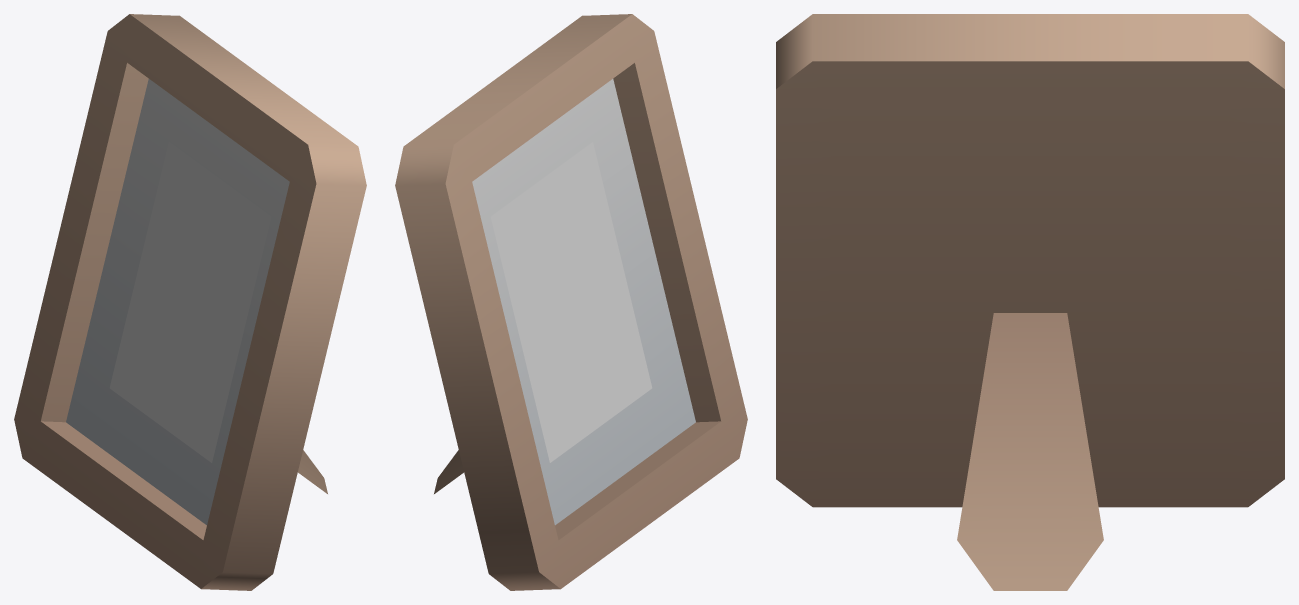
File: picture-frame-border_0.glb
The picture shows the model from 3 angles, left to right: view 1: azimuth 30°, elevation 25°; view 2: azimuth 150°, elevation 25°; view 3: azimuth 270°, elevation 25°; orthographic projection. The views are drawn at different scales.
Parts seen in each view (by area): view 1: picture-frame-border; view 2: picture-frame-border; view 3: picture-frame-border.
Part boxes in pixels (left/top/right/bottom): picture-frame-border: left=14, top=14, right=366, bottom=590; picture-frame-border: left=395, top=14, right=747, bottom=590; picture-frame-border: left=776, top=14, right=1284, bottom=590.
Size of the model in its own units: 0.193 by 0.3959 by 0.3465.
